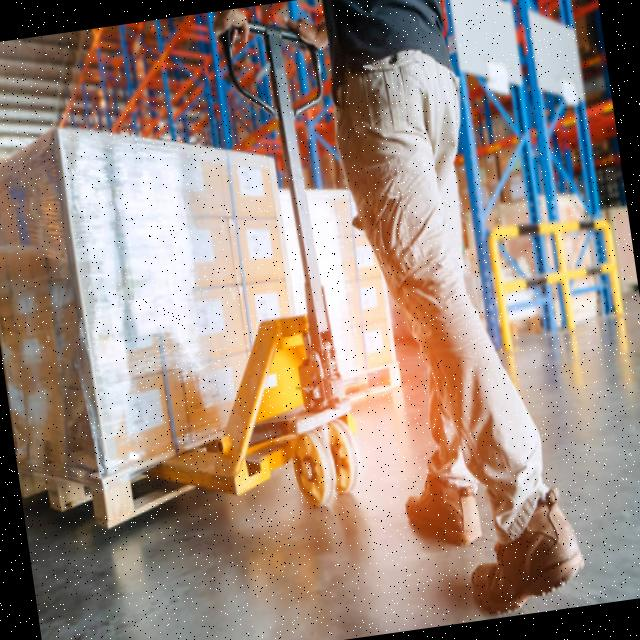Wooden-Pallets: (17, 430, 218, 535)
